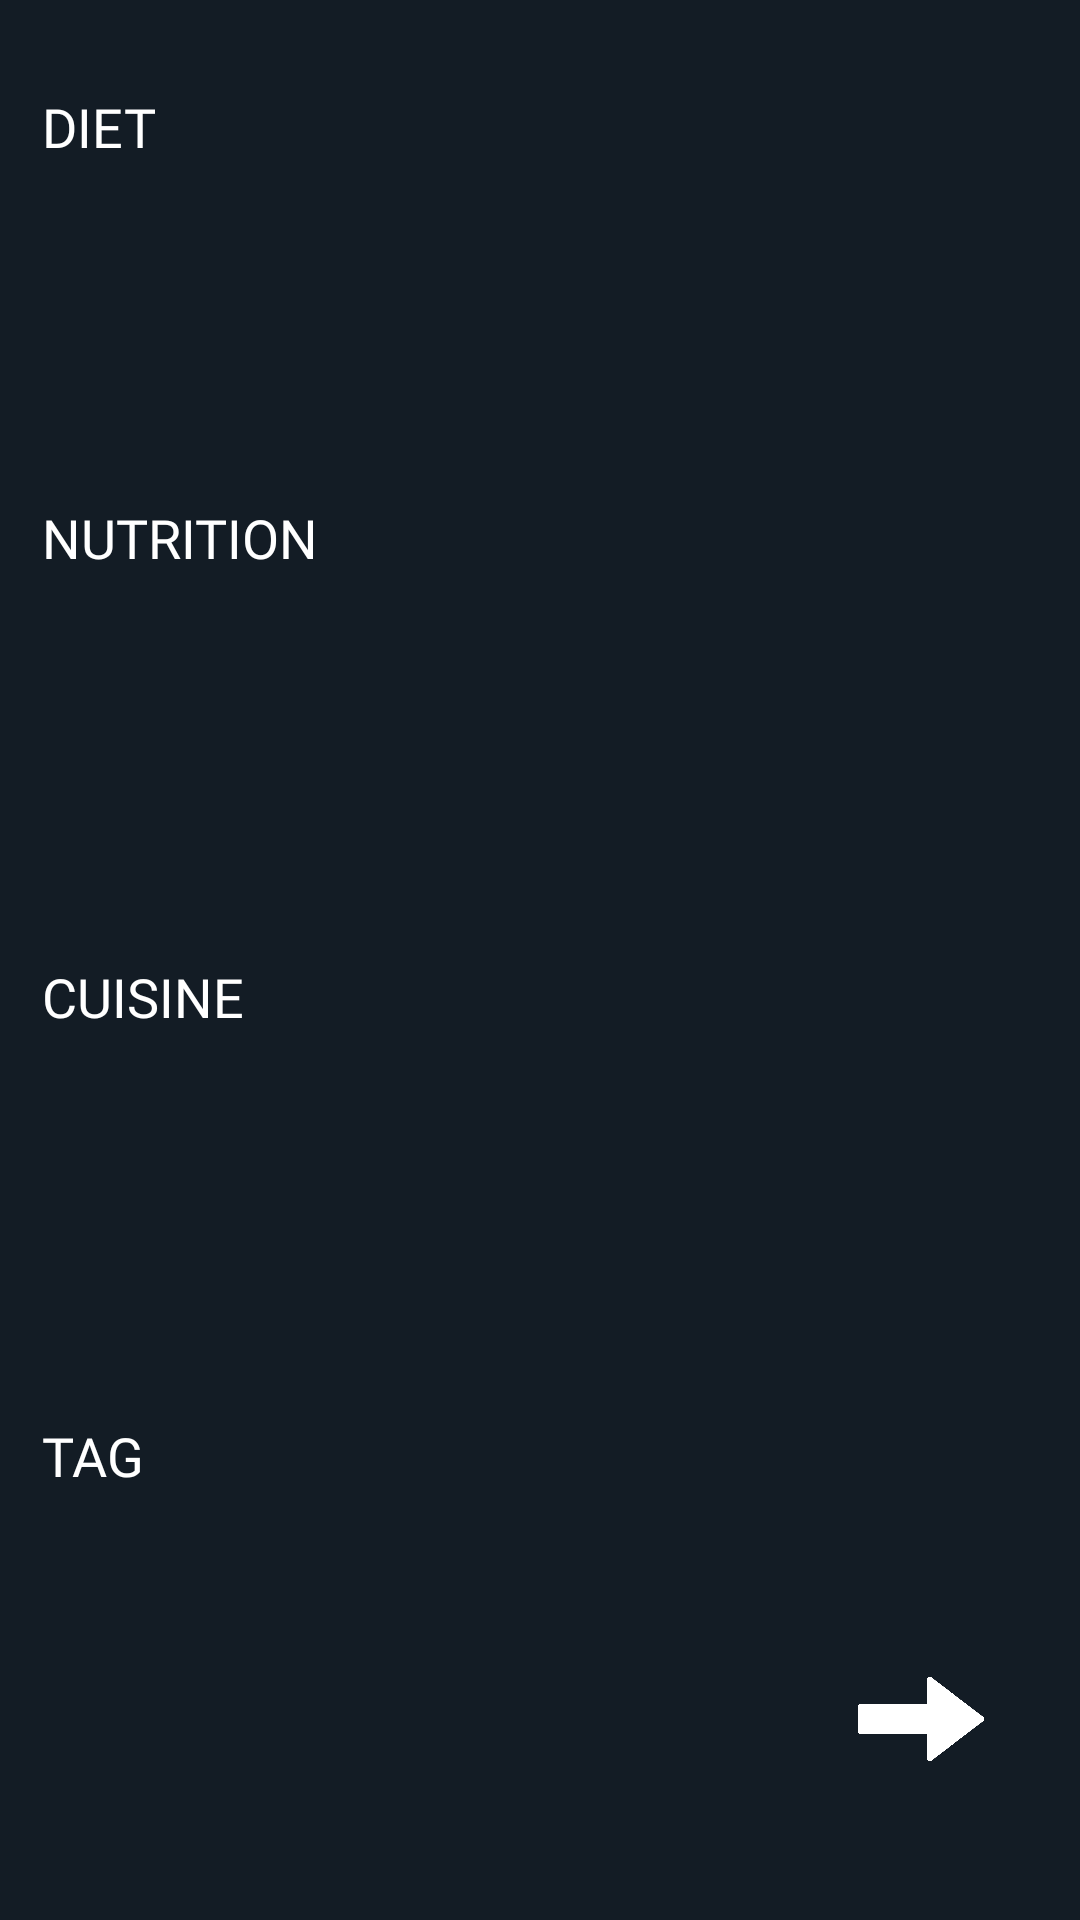

Where icons sit on this 1080x1920 app screen, as [x1,y1,x2,y2]:
arrow: [858,1677,984,1761]
